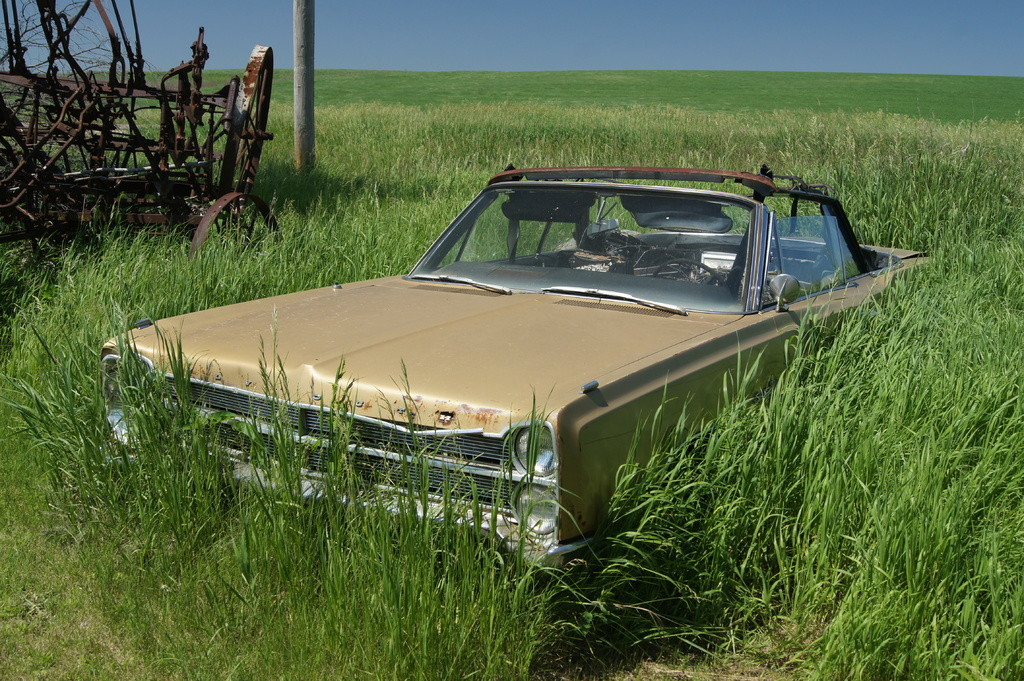mobil: (165, 143, 900, 553)
